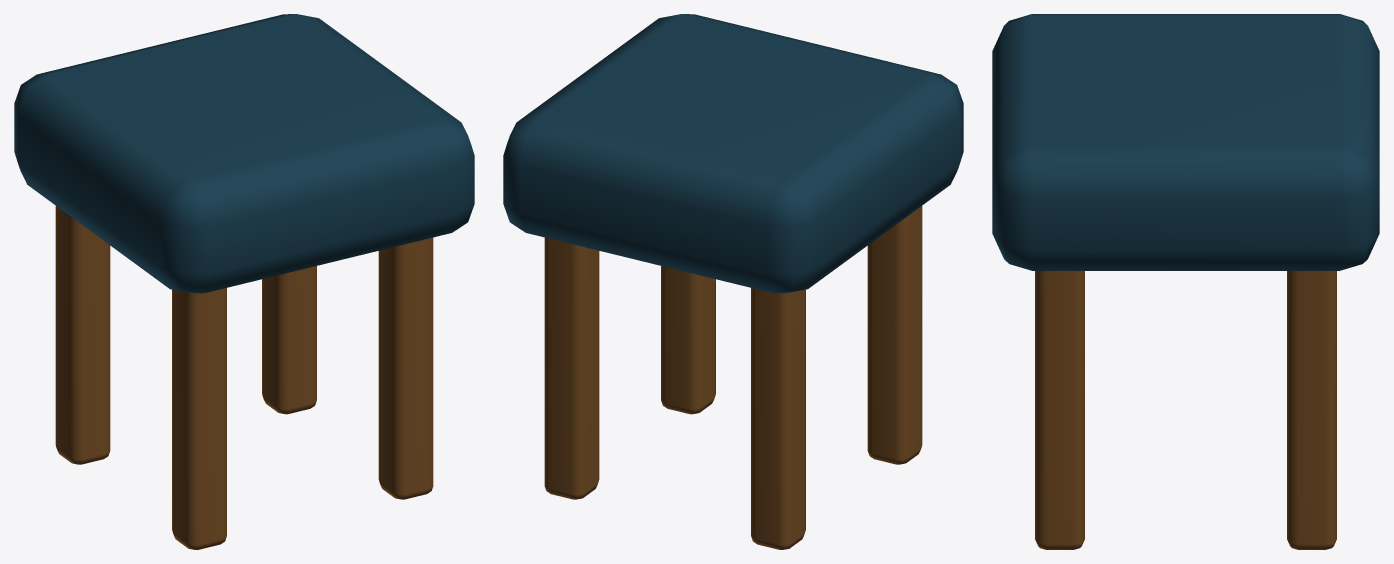
The model's file is stool_06_blue.fbx.
3 views of the same model, side by side, from view 1: azimuth 30°, elevation 25°; view 2: azimuth 150°, elevation 25°; view 3: azimuth 270°, elevation 25° (orthographic). The views are drawn at different scales.
Visible parts, largest first — view 1: stool_06_blue; view 2: stool_06_blue; view 3: stool_06_blue.
Boxes of the visible parts, left/top/right/bottom form: stool_06_blue: left=14, top=14, right=474, bottom=549; stool_06_blue: left=503, top=14, right=963, bottom=549; stool_06_blue: left=992, top=14, right=1379, bottom=549.
Size of the model in its own units: 41.07 by 47.84 by 41.07.
1 material, 1 textured.
